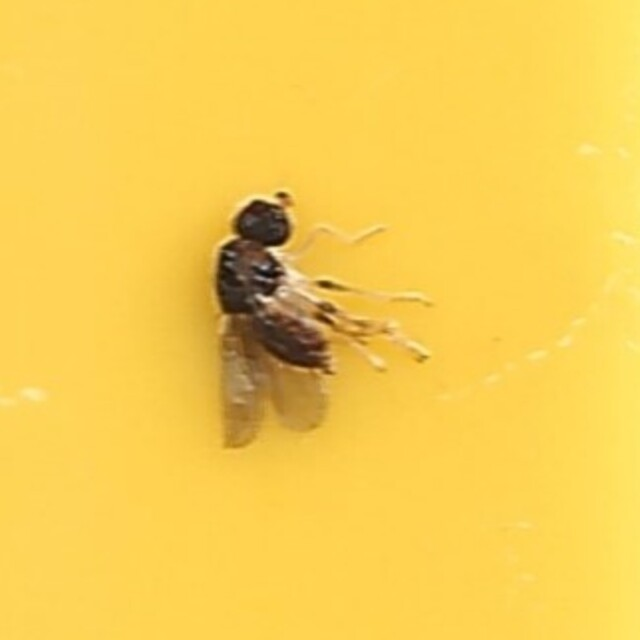Brachycera: (199, 188, 441, 452)
